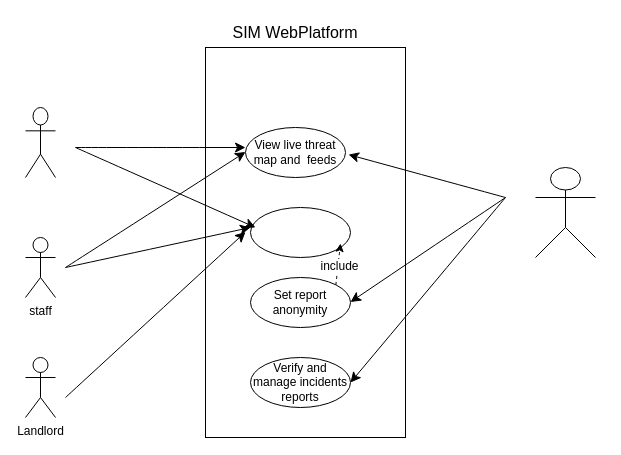
The diagram is 621 pixels wide and 455 high, and some of its shapes have lost their labels. Here are the shapes that lost their labels. From the top down, the centre of each, then its label:
At [40,142]: "Student".
At [300,232]: "Report security incident".
At [565,212]: "System admin".
